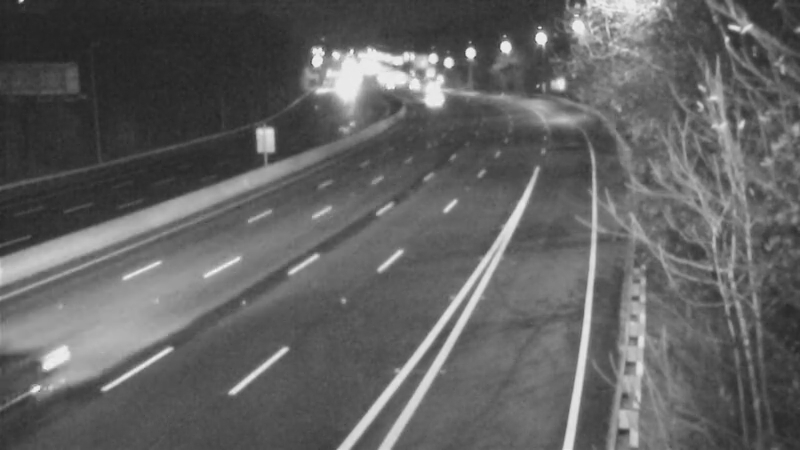vehicle: (1, 318, 92, 428), (409, 63, 459, 113), (408, 77, 458, 127)
